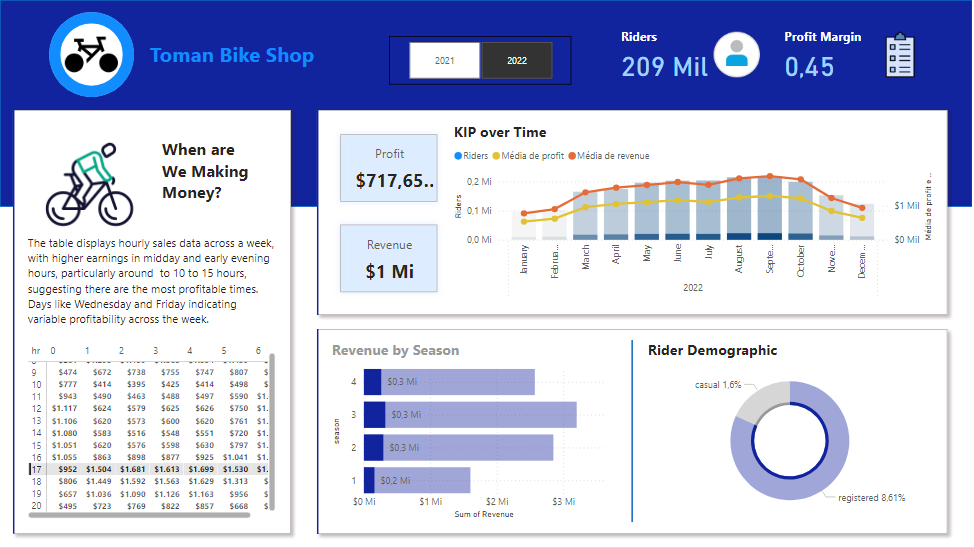

Layout of this report page (visuals, bound fields, positions):
{"tool":"powerbi","page":{"name":"Page 1","canvas":[1280,720],"ordinal":0},"visuals":[{"type":"shape","box":[0,0,1280,272],"z":0},{"type":"cardVisual","fields":{"Data":["Sum(Query2.riders)"]},"box":[0,128,400,592],"z":1000},{"type":"cardVisual","fields":{"Data":["Sum(Query2.riders)"]},"box":[400,128,864,304],"z":2000},{"type":"cardVisual","fields":{"Data":["Sum(Query2.riders)"]},"box":[400,416,864,304],"z":3000},{"type":"cardVisual","fields":{"Data":["Sum(Query2.riders)"]},"box":[32,160,176,144],"z":4000},{"type":"pivotTable","fields":{"Rows":["Query2.hr"],"Columns":["Query2.weekday"],"Values":["Avg(Query2.revenue)"]},"box":[32,448,336,240],"z":5000},{"type":"textbox","box":[208,176,144,112],"z":6000},{"type":"textbox","box":[32,304,336,144],"z":7000},{"type":"lineClusteredColumnComboChart","title":"KIP over Time","fields":{"Category":["Query2.dteday.Variation.Date Hierarchy.Year","Query2.dteday.Variation.Date Hierarchy.Month","Query2.dteday.Variation.Date Hierarchy.Day"],"Y":["Sum(Query2.riders)"],"Y2":["Avg(Query1.profit)","Avg(Query1.revenue)"]},"box":[592,160,640,240],"z":8000},{"type":"clusteredBarChart","title":"Revenue by Season","fields":{"Y":["Sum(Query1.revenue)"],"Category":["Query1.season"]},"box":[432,448,384,240],"z":9000},{"type":"donutChart","title":"Rider Demographic","fields":{"Category":["Query1.rider_type"],"Y":["Sum(Query1.riders)"]},"box":[848,448,384,240],"z":10000},{"type":"shape","box":[816,448,32,240],"z":11000},{"type":"cardVisual","title":"KIP over Time","fields":{"Data":["Sum(Query1.profit)","Sum(Query1.revenue)"]},"box":[432,160,160,240],"z":12000},{"type":"cardVisual","fields":{"Data":["Sum(Query1.riders)","Query1.Profit Margin"]},"box":[800,16,432,112],"z":13000},{"type":"shape","box":[64,16,112,112],"z":14000},{"type":"image","box":[80,32,80,80],"z":15000},{"type":"textbox","box":[192,48,352,64],"z":16000},{"type":"slicer","fields":{"Values":["Query1.Years"]},"box":[512,48,240,64],"z":17000}]}

Visuals, with their boxes in screenshot pixels (x1, y1, x2, y2), scaled from the page's 1280x720 canvas onto the 974x548 screenshot:
shape: 0/0/973/207
cardVisual - Sum(Query2.riders): 0/97/304/547
cardVisual - Sum(Query2.riders): 304/97/962/329
cardVisual - Sum(Query2.riders): 304/317/962/547
cardVisual - Sum(Query2.riders): 24/122/158/231
pivotTable - Query2.hr x Query2.weekday: 24/341/280/524
textbox: 158/134/268/219
textbox: 24/231/280/341
"KIP over Time" lineClusteredColumnComboChart: 450/122/937/304
"Revenue by Season" clusteredBarChart: 329/341/621/524
"Rider Demographic" donutChart: 645/341/937/524
shape: 621/341/645/524
"KIP over Time" cardVisual: 329/122/450/304
cardVisual - Sum(Query1.riders) x Query1.Profit Margin: 609/12/937/97
shape: 49/12/134/97
image: 61/24/122/85
textbox: 146/37/414/85
slicer - Query1.Years: 390/37/572/85
